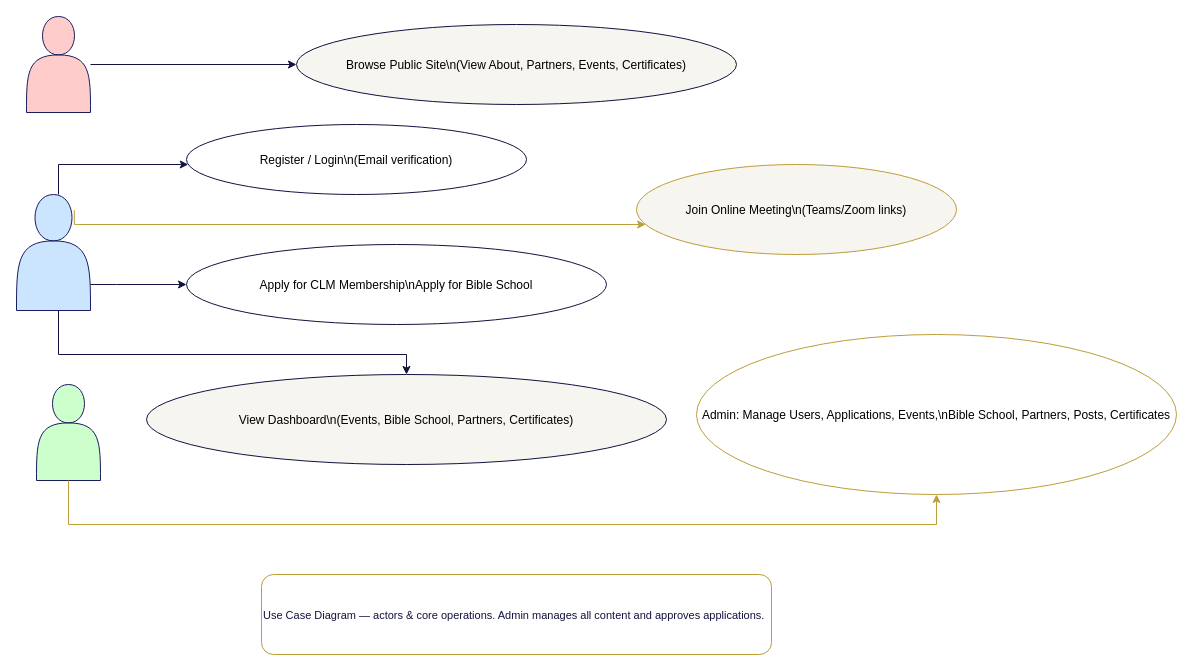
Some shapes in this 1193 by 671 pixel diagram are drawn without their labels. The shapes that lost their labels are listed below. From the top down, each one's centre as x and y in pixels, then its label:
At (58,64): "Guest".
At (53,252): "Member".
At (68,432): "Admin".
